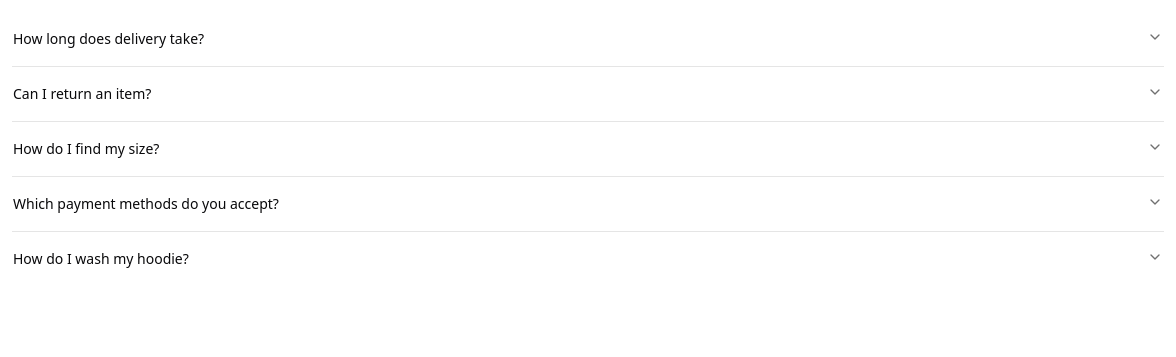
Scenario: AccordionItem › states › opens and closes with a click
The width and height of the screenshot is (1176, 357).
Click the button "How long does delivery take?" at (109, 38), box x1=12 y1=12 x2=1164 y2=66
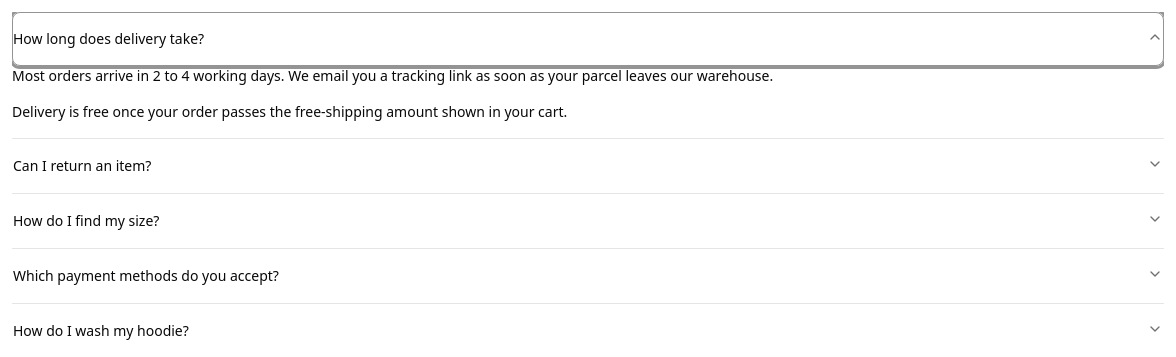
Expected: the button "How long does delivery take?" is expanded
Expected: the text "Most orders arrive in 2 to 4 working days. We email you a tracking link as soon as your parcel leaves our warehouse." is shown, x1=12 y1=66 x2=773 y2=85
Click the button "How long does delivery take?" at (109, 38), box x1=12 y1=12 x2=1164 y2=66
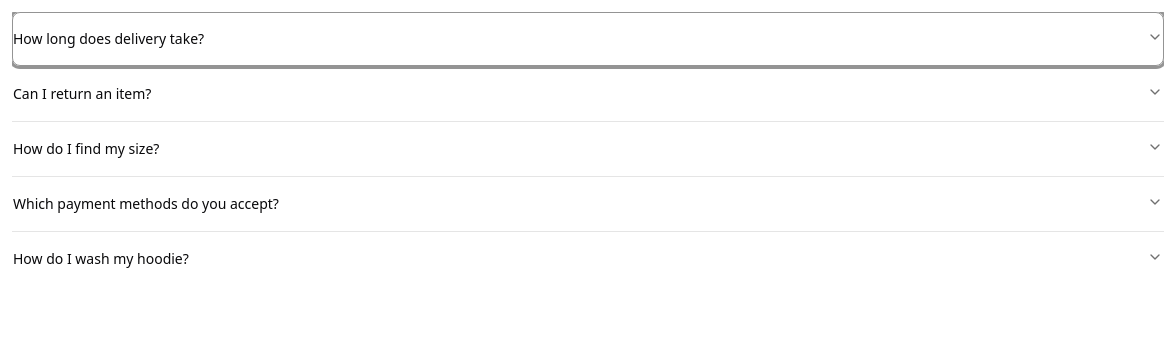
Expected: the text "Most orders arrive in 2 to 4 working days. We email you a tracking link as soon as your parcel leaves our warehouse." is gone
Expected: the button "How long does delivery take?" is collapsed, x1=12 y1=12 x2=1164 y2=66
